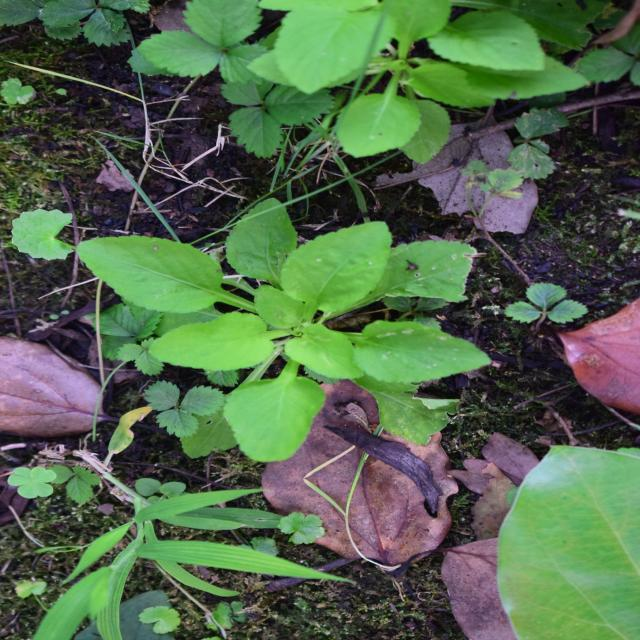Viola: (192, 77, 421, 470)
